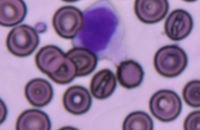L: (74, 0, 127, 59)
